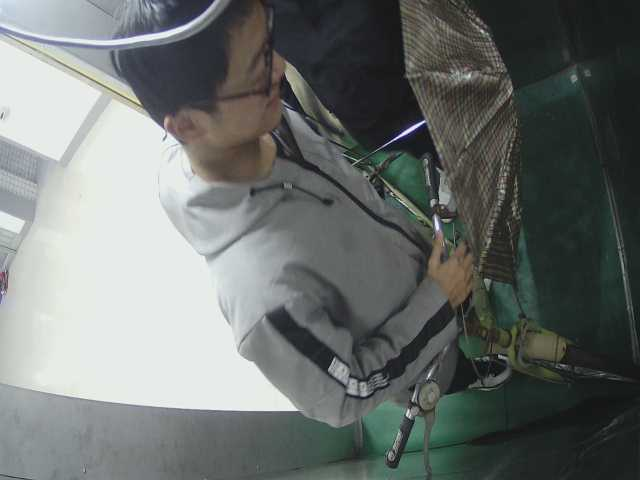bicycle: (356, 147, 634, 399)
person: (110, 1, 502, 402)
